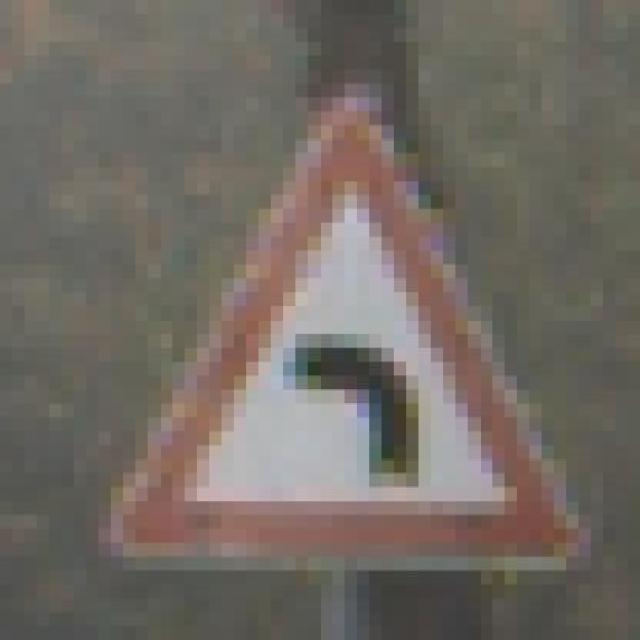Dangerous Left Curve Ahead: (99, 83, 578, 585)
